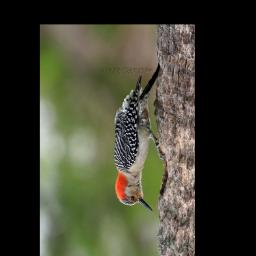Woodpecker: (109, 54, 164, 216)
